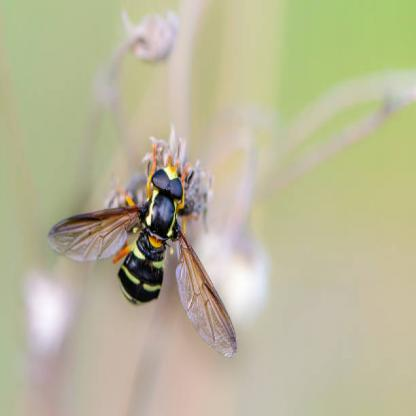sawfly: (46, 142, 240, 367)
